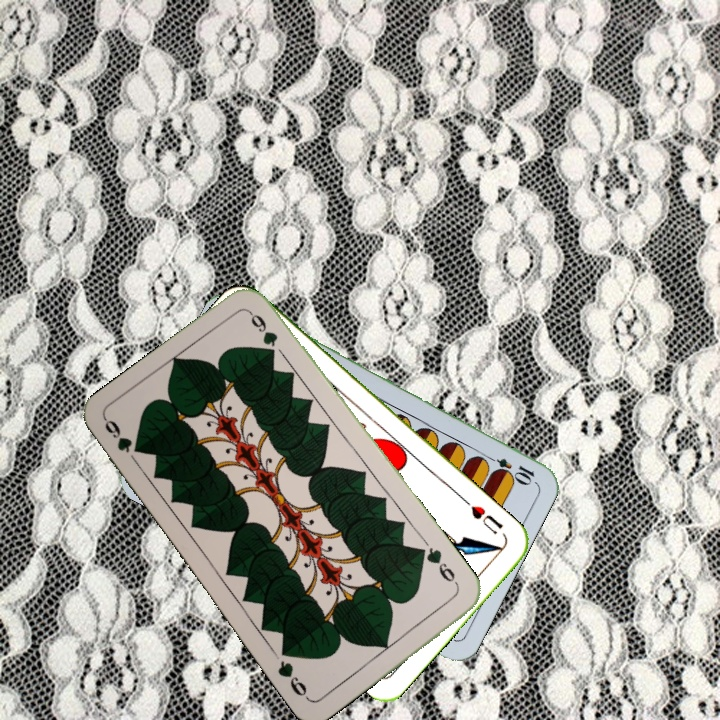E10: (480, 450, 537, 486)
G9: (416, 543, 462, 591), (100, 415, 135, 456)
HU: (460, 495, 506, 537)
